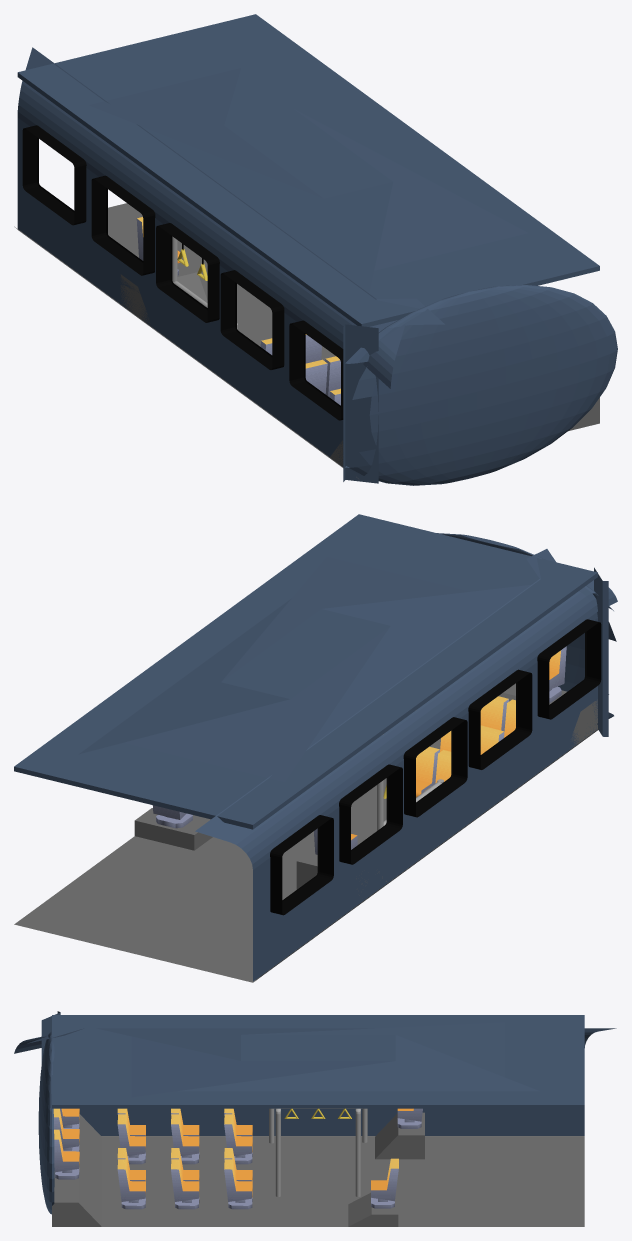
Rendered from bus.glb.
3 views of the same model, one above another, from view 1: azimuth 30°, elevation 25°; view 2: azimuth 150°, elevation 25°; view 3: azimuth 270°, elevation 25° (orthographic). The views are drawn at different scales.
Visible parts, largest first — view 1: Plane.001; view 2: Plane.001; view 3: Plane.001.
Boxes of the visible parts, left/top/right/bottom form: Plane.001: left=14, top=14, right=617, bottom=485; Plane.001: left=14, top=514, right=617, bottom=982; Plane.001: left=14, top=1011, right=616, bottom=1226.
Bounding box in the file's own units: 18.31 × 12.59 × 45.35.
Materials: 49 (17 with a texture image).
